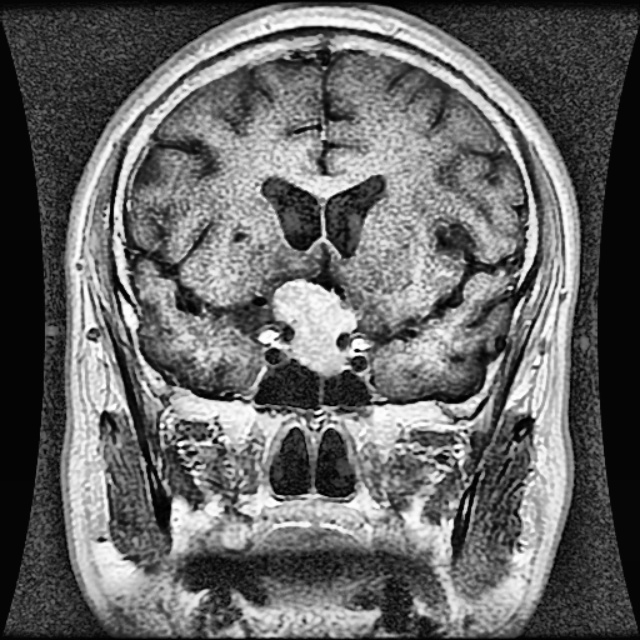Pituitary: (272, 279, 354, 373)
